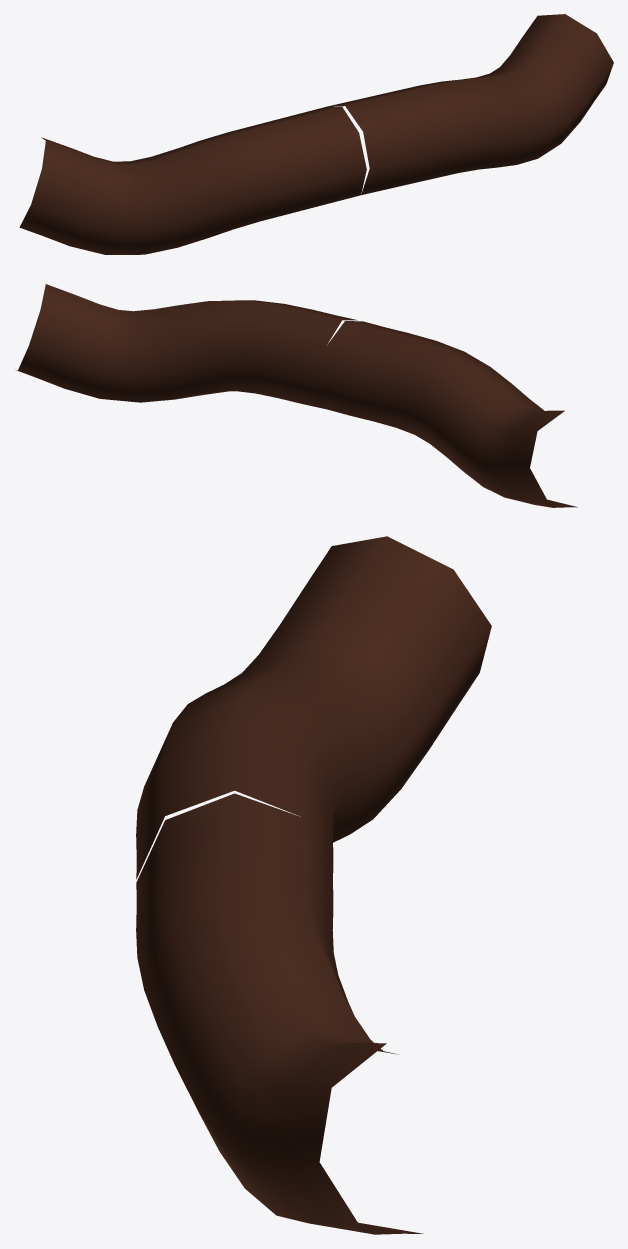
Rendered from mustache.glb.
3 views of the same model, one above another, from view 1: azimuth 30°, elevation 25°; view 2: azimuth 150°, elevation 25°; view 3: azimuth 270°, elevation 25° (orthographic). The views are drawn at different scales.
Parts seen in each view (by area): view 1: mustache_-1, mustache_1; view 2: mustache_1, mustache_-1; view 3: mustache_1, mustache_-1.
Part boxes in pixels (bbox=[...]): mustache_-1: bbox=[19, 106, 366, 254]; mustache_1: bbox=[327, 14, 613, 195]; mustache_1: bbox=[16, 284, 357, 408]; mustache_-1: bbox=[318, 321, 577, 507]; mustache_1: bbox=[136, 793, 423, 1234]; mustache_-1: bbox=[136, 536, 491, 881].
Bounding box in the file's own units: 0.1743 × 0.0325 × 0.0458.
